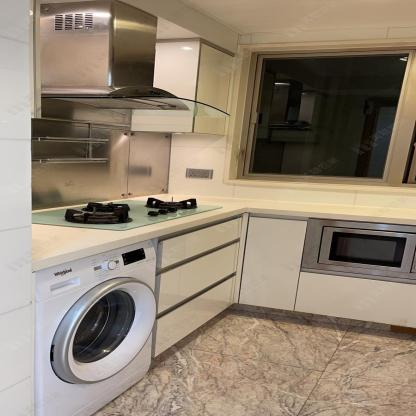Exhaust Hood: (40, 0, 229, 119)
Microwave: (299, 217, 416, 284)
Stove: (31, 193, 267, 239)
Washing Machine: (34, 237, 159, 416)
